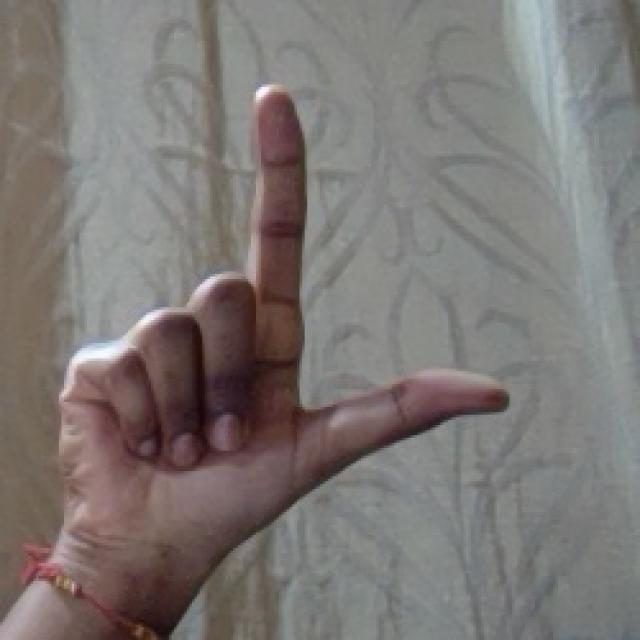Alphabet-L: (53, 82, 502, 560)
